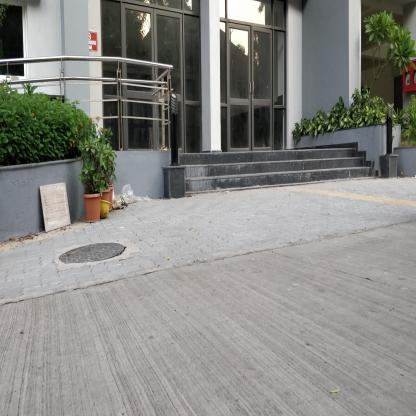stairs: (190, 151, 358, 194)
